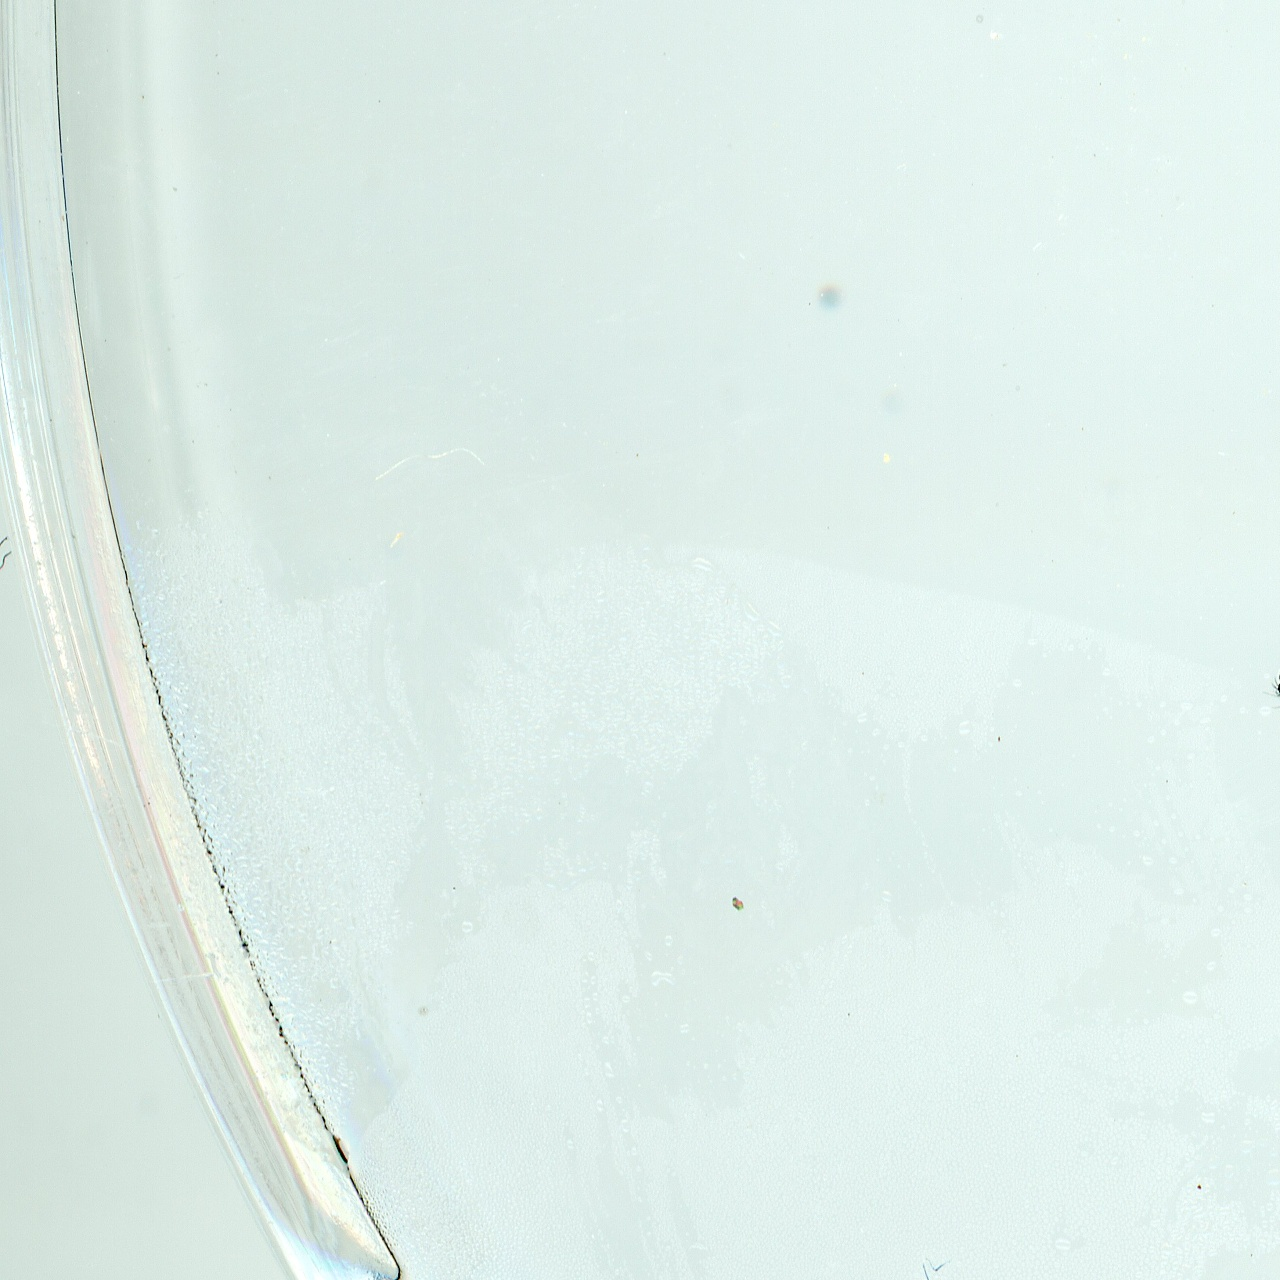arthropod: (1257, 611, 1280, 717)
